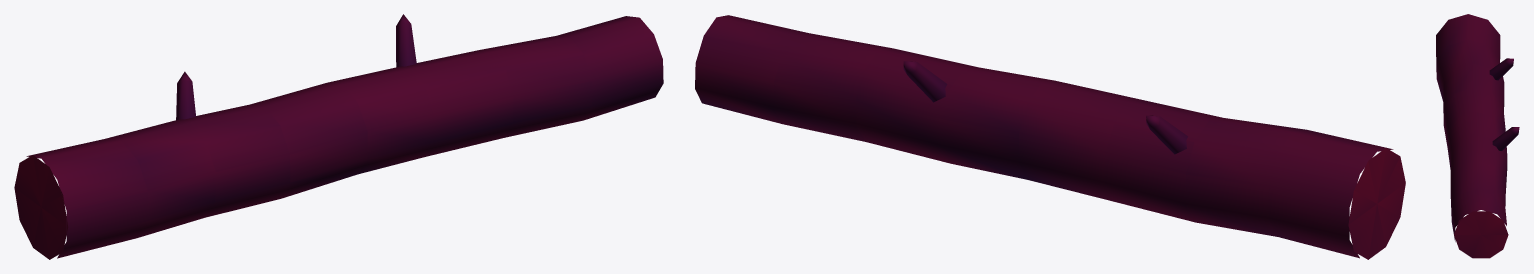
The model's file is veg_log.glb.
3 renders of one model, left to right at view 1: azimuth 30°, elevation 25°; view 2: azimuth 150°, elevation 25°; view 3: azimuth 270°, elevation 25°, orthographic. The views are drawn at different scales.
Parts seen in each view (by area): view 1: veg_log_LOD0; view 2: veg_log_LOD0; view 3: veg_log_LOD0.
Boxes of the visible parts, x1,y1,x2,y2 form: veg_log_LOD0: (14,14,663,259); veg_log_LOD0: (695,15,1405,259); veg_log_LOD0: (1436,14,1519,258).
Size of what is drawn, in the model's own units: 1.71 by 0.3044 by 0.3273.
